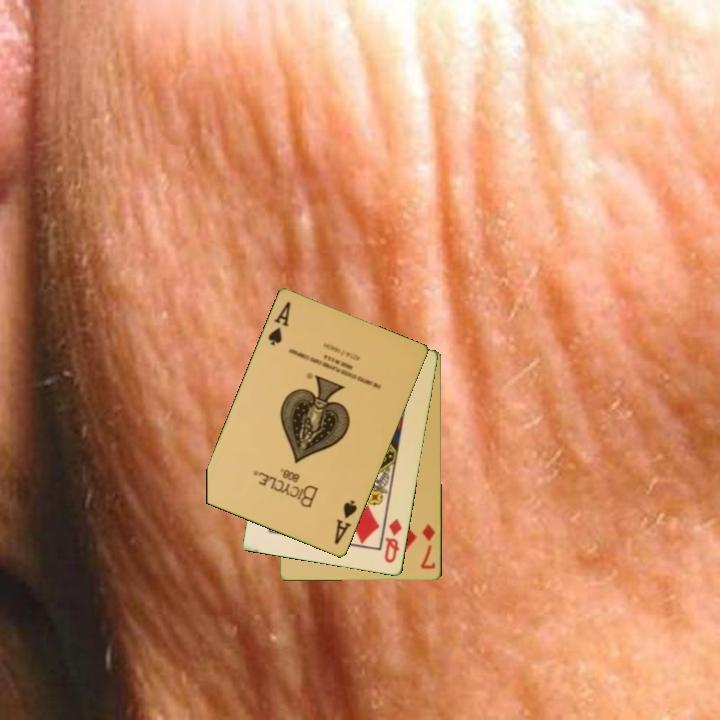7d: (418, 521, 439, 572)
As: (331, 497, 360, 548), (265, 298, 294, 349)
Qd: (381, 515, 405, 566)
